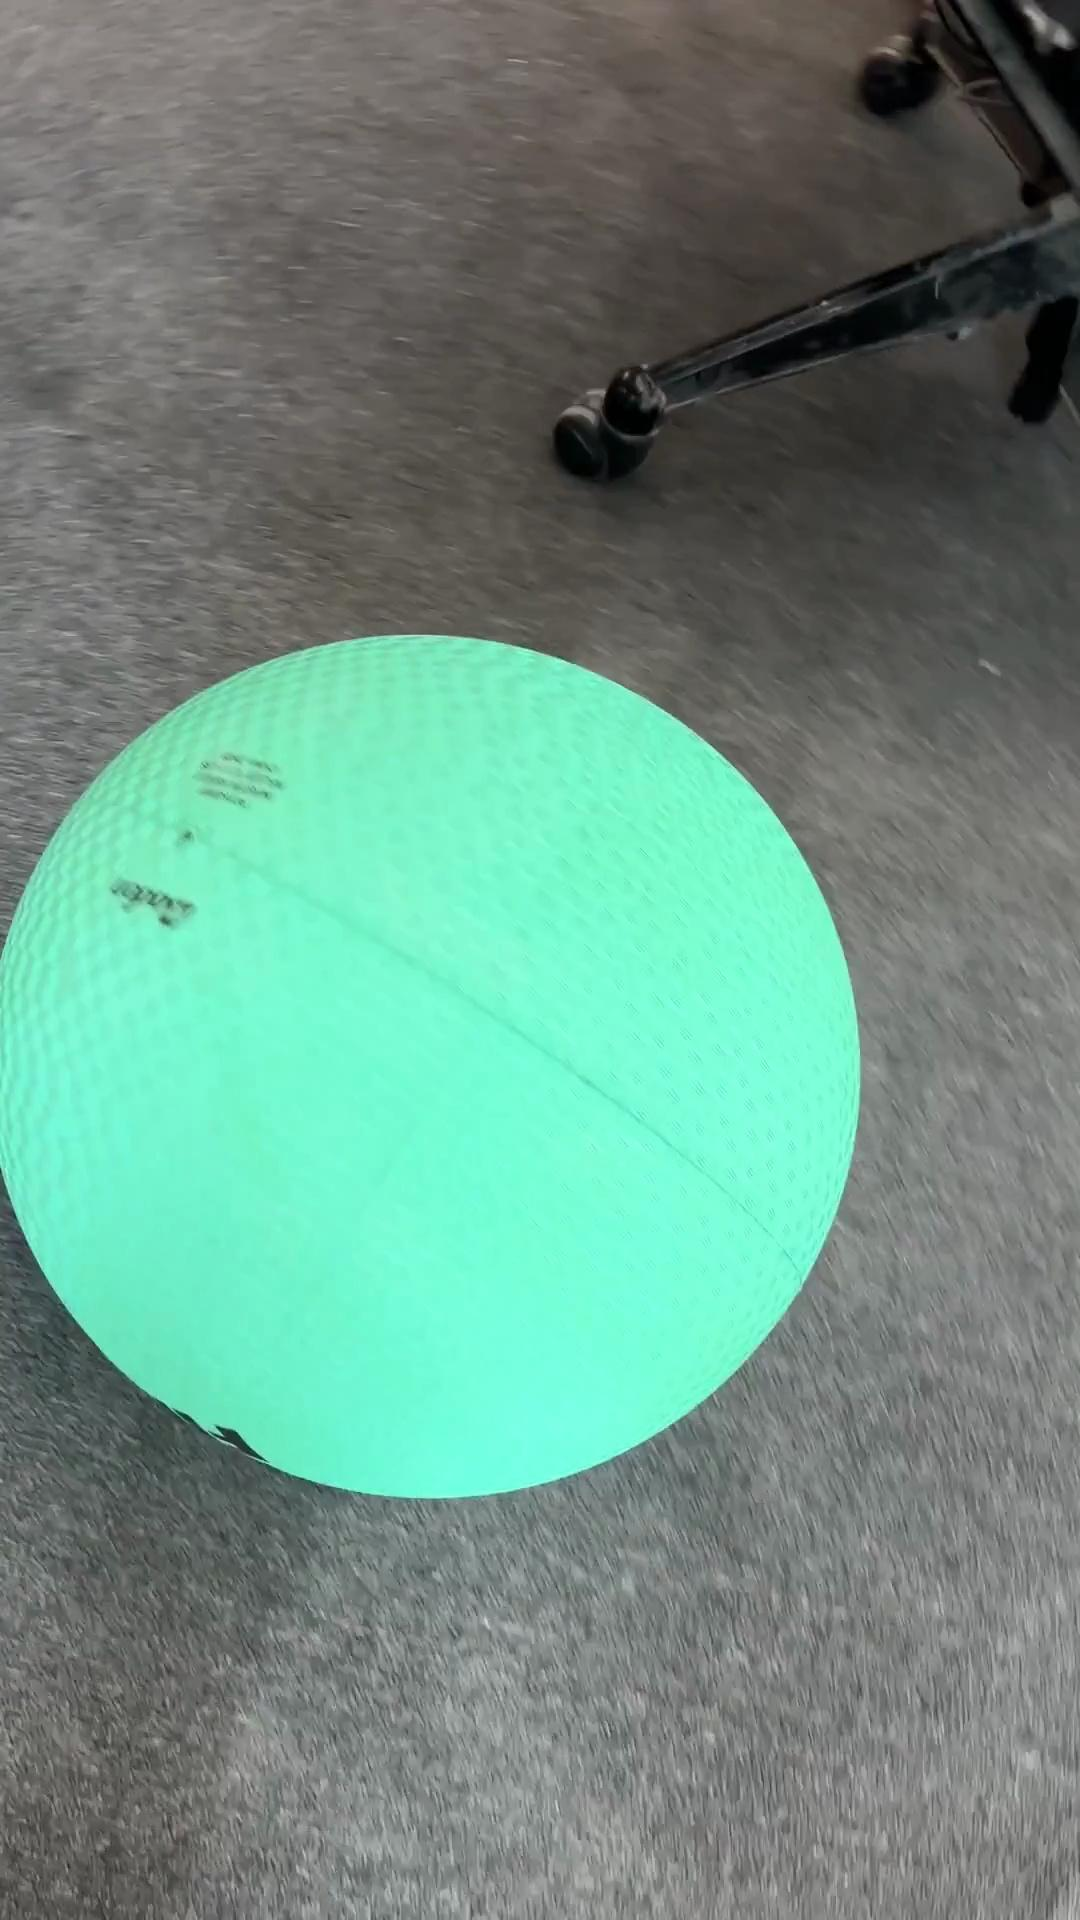ALGAE: (3, 629, 864, 1501)
